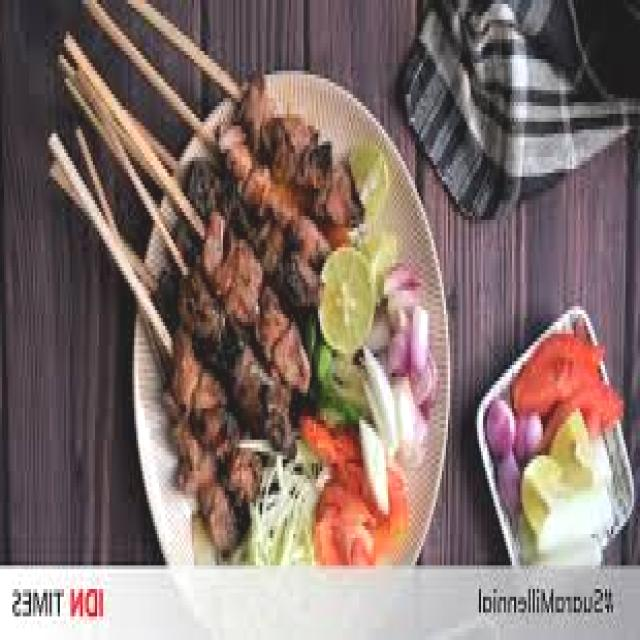sate: (45, 0, 357, 561)
